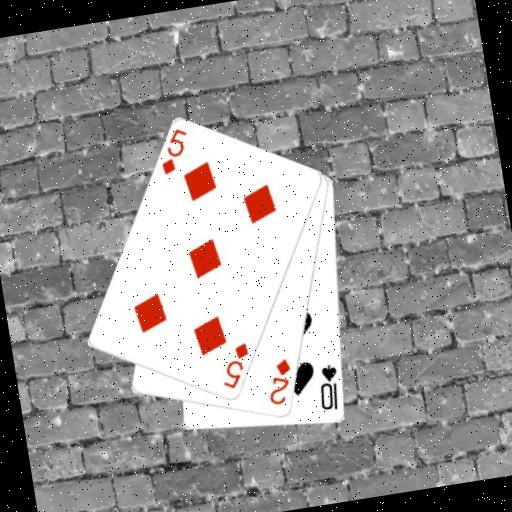10S: (312, 360, 345, 414)
2D: (261, 355, 298, 409)
5D: (153, 124, 195, 178), (213, 339, 255, 392)
